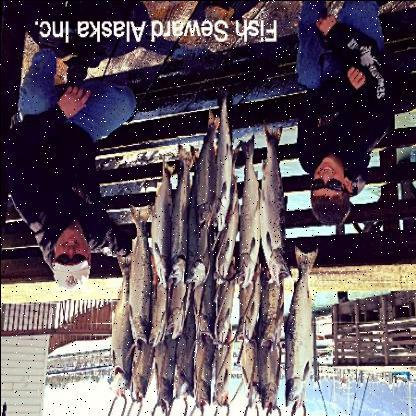fish: (260, 124, 294, 286), (284, 248, 317, 411), (184, 146, 215, 288), (210, 142, 240, 286), (166, 147, 196, 285), (236, 132, 262, 286), (107, 256, 135, 398), (212, 86, 238, 233), (147, 161, 176, 289), (192, 110, 221, 232), (130, 203, 152, 344), (258, 244, 285, 350), (165, 240, 193, 342), (236, 237, 261, 343), (212, 240, 237, 344), (147, 227, 168, 349), (258, 306, 282, 412), (128, 316, 156, 404), (154, 319, 176, 415), (174, 310, 197, 400), (192, 246, 214, 334), (238, 315, 258, 407), (193, 318, 213, 408), (213, 320, 232, 407)
